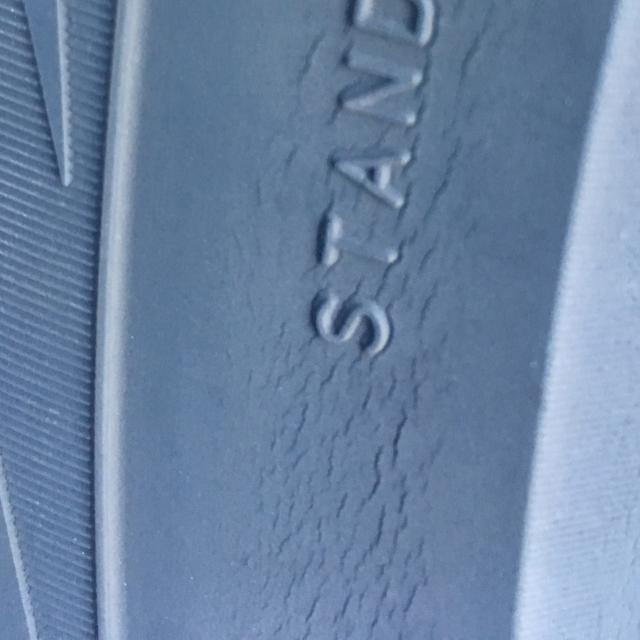Cracks: (200, 0, 530, 640)
